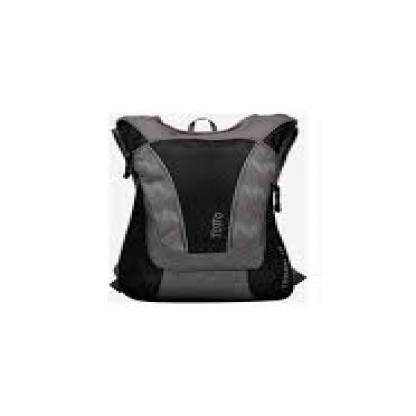morral: (85, 102, 342, 317)
